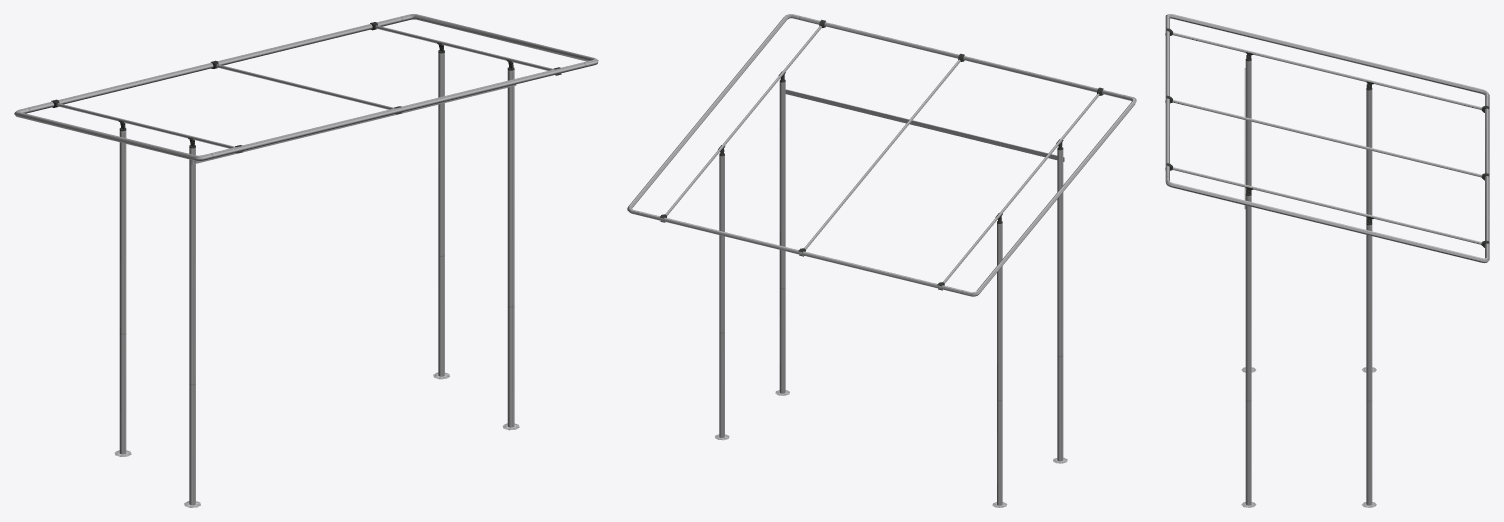
Rendered from jsf_4P_s02_Leg01.fbx.
3 views of the same model, side by side, from view 1: azimuth 30°, elevation 25°; view 2: azimuth 150°, elevation 25°; view 3: azimuth 270°, elevation 25° (orthographic). The views are drawn at different scales.
Parts seen in each view (by area): view 1: jsf_4P_s02_Leg01; view 2: jsf_4P_s02_Leg01; view 3: jsf_4P_s02_Leg01.
Boxes of the visible parts, x1,y1,x2,y2 form: jsf_4P_s02_Leg01: (14,14,598,507); jsf_4P_s02_Leg01: (627,14,1136,507); jsf_4P_s02_Leg01: (1165,14,1489,507).
Bounding box in the file's own units: 262 × 243 × 210.
